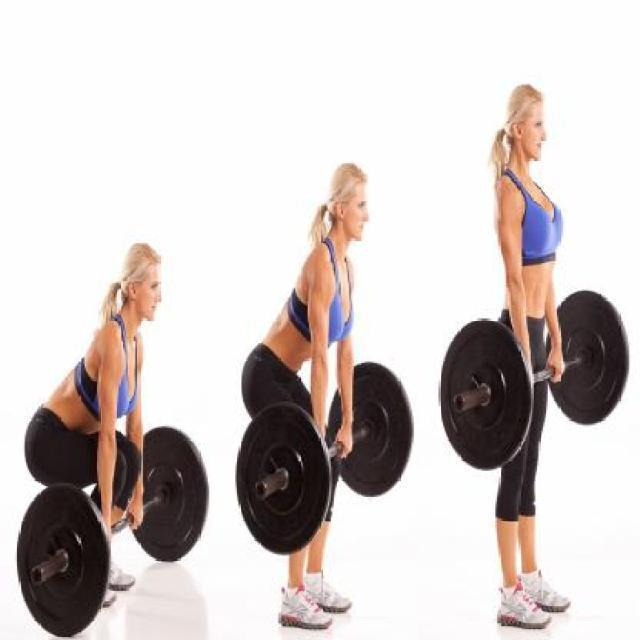barbell: (12, 478, 124, 639), (232, 394, 336, 566), (436, 310, 540, 481)
